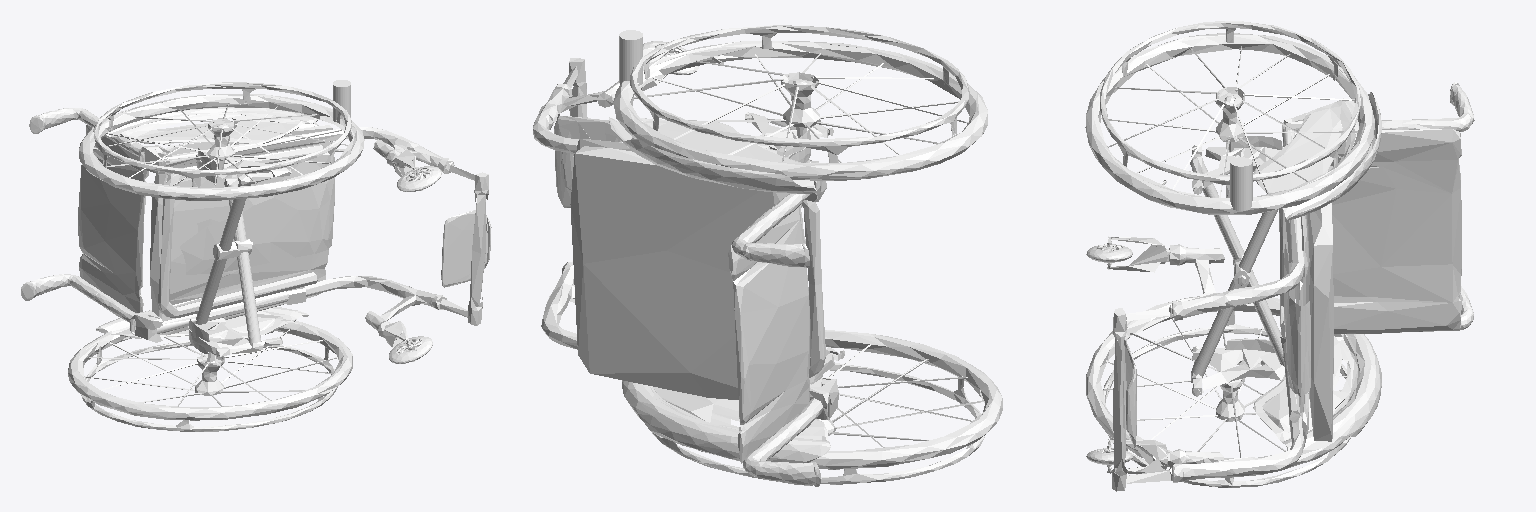
robot.urdf — wheelchair:
<?xml version="1.0" ?>
<robot name="wheelchair">

  <material name="white">
    <color rgba="1 1 1 1"/>
  </material>

  <link name="root">
    <inertial>
      <mass value="0"/>
      <origin rpy="0 0 0" xyz="0 0 0"/>
      <inertia ixx="0.01" ixy="0.0" ixz="0.0" iyy="0.01" iyz="0.0" izz="0.01"/>
    </inertial>
    <visual>
      <origin rpy="0 0 0" xyz="0 0 0"/>
      <geometry>
        <mesh filename="wheelchair_new_reduced_compressed.obj" scale="0.36 0.28 0.36"/>
      </geometry>
      <material name="white"/>
    </visual>
    <collision>
      <origin rpy="0 0 0" xyz="0 0 0"/>
      <geometry>
        <mesh filename="wheelchair_new_compressed_vhacd.obj" scale="0.36 0.28 0.36"/>
      </geometry>
    </collision>
  </link>

  <link name="wheelchair_link">
    <inertial>
      <mass value="0.001"/>
      <origin rpy="0 0 0" xyz="0 0 0"/>
      <inertia ixx="0.0001" ixy="0" ixz="0" iyy="0.000001" iyz="0" izz="0.0001"/>
    </inertial>
    <visual>
      <origin rpy="0 0 0" xyz="0.38 0.32 0.34"/>
      <geometry>
        <cylinder radius="0.023" length="0.1"/>
      </geometry>
      <material name="white"/>
    </visual>
    <collision>
      <origin rpy="0 0 0" xyz="0.38 0.32 0.34"/>
      <geometry>
        <cylinder radius="0.023" length="0.1"/>
      </geometry>
    </collision>
  </link>

  <joint name="wheelchair_joint" type="fixed">
    <parent link="root"/>
    <child link="wheelchair_link"/>
    <origin xyz="0 0 0"/>
  </joint>
</robot>

--- Facts derived from the render (not from the file) ---
3 views of the same robot in one strip: view 1: azimuth 30°, elevation 25°; view 2: azimuth 150°, elevation 25°; view 3: azimuth 270°, elevation 25° (orthographic).
Robot: wheelchair — 2 links, 1 joints (1 fixed); root link root; default pose: every joint at zero.
Links seen in each view (by area): view 1: root, wheelchair_link; view 2: root, wheelchair_link; view 3: root, wheelchair_link.
Link boxes in pixels (bbox=[...]): root: bbox=[21, 82, 491, 431]; wheelchair_link: bbox=[333, 80, 350, 122]; root: bbox=[533, 25, 1002, 486]; wheelchair_link: bbox=[619, 30, 642, 85]; root: bbox=[1085, 21, 1474, 491]; wheelchair_link: bbox=[1230, 157, 1252, 210].
Size in the robot's own frame: 1.08 by 0.7958 by 0.764 metres.
1 mesh visuals loaded from 1 distinct referenced files (1 OBJ).